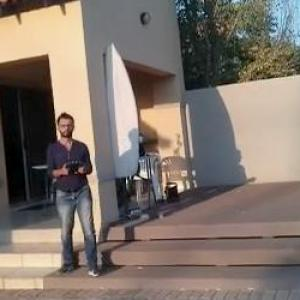follow: (44, 105, 104, 280)
